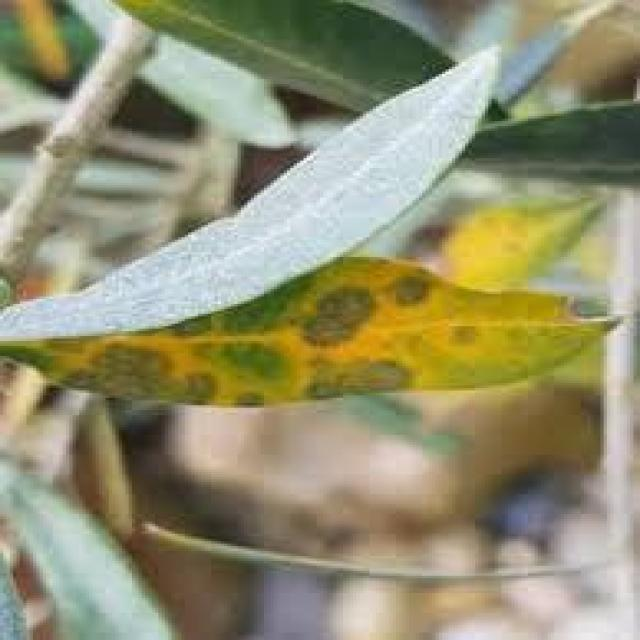OlivePeacockSpot: (0, 254, 610, 410)
